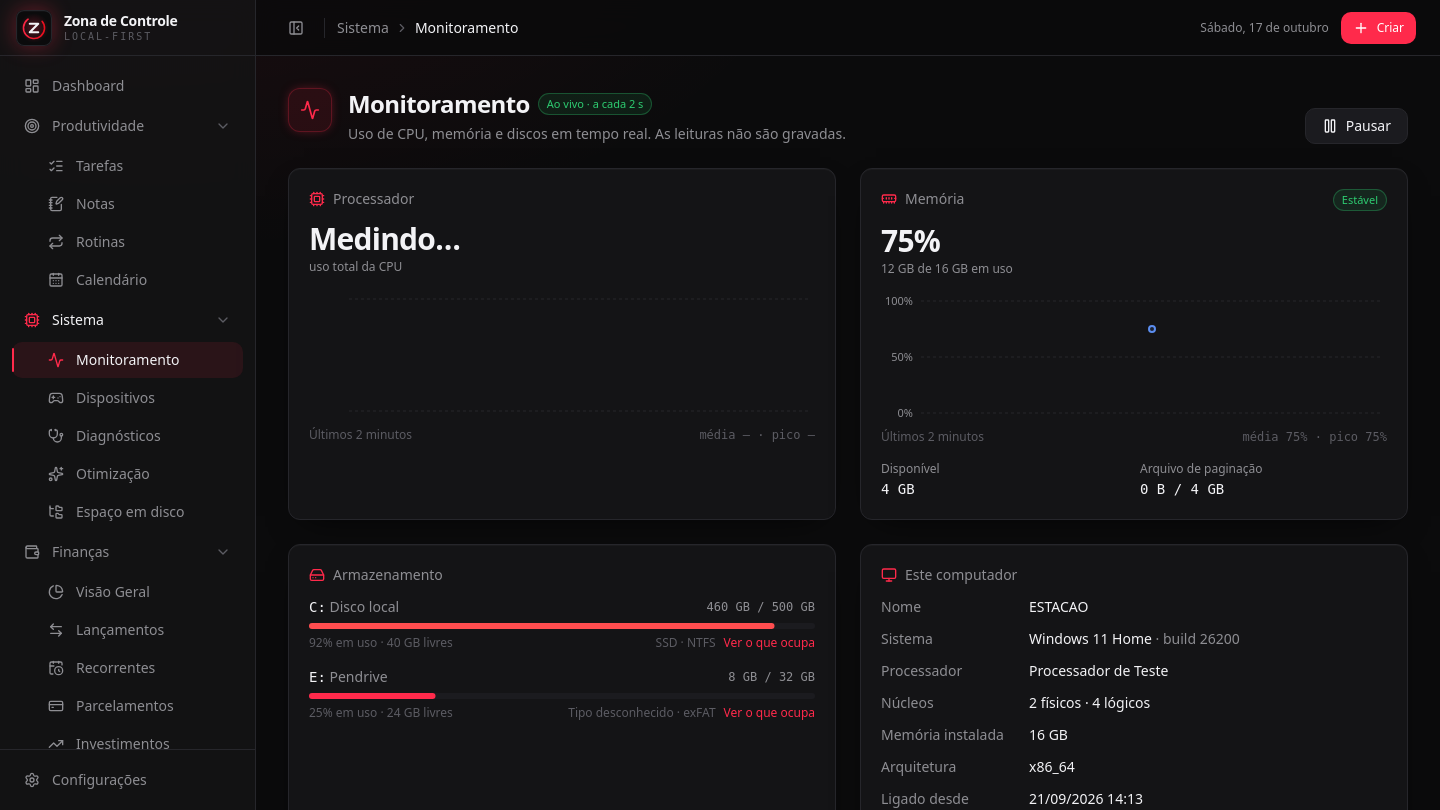
Test case: página de Monitoramento › pausa e retoma as leituras
Check: the text "Ao vivo · a cada 2 s" is shown, box [538,93,652,115]
Click the button "Pausar": (1356, 126) [1305,108,1408,144]
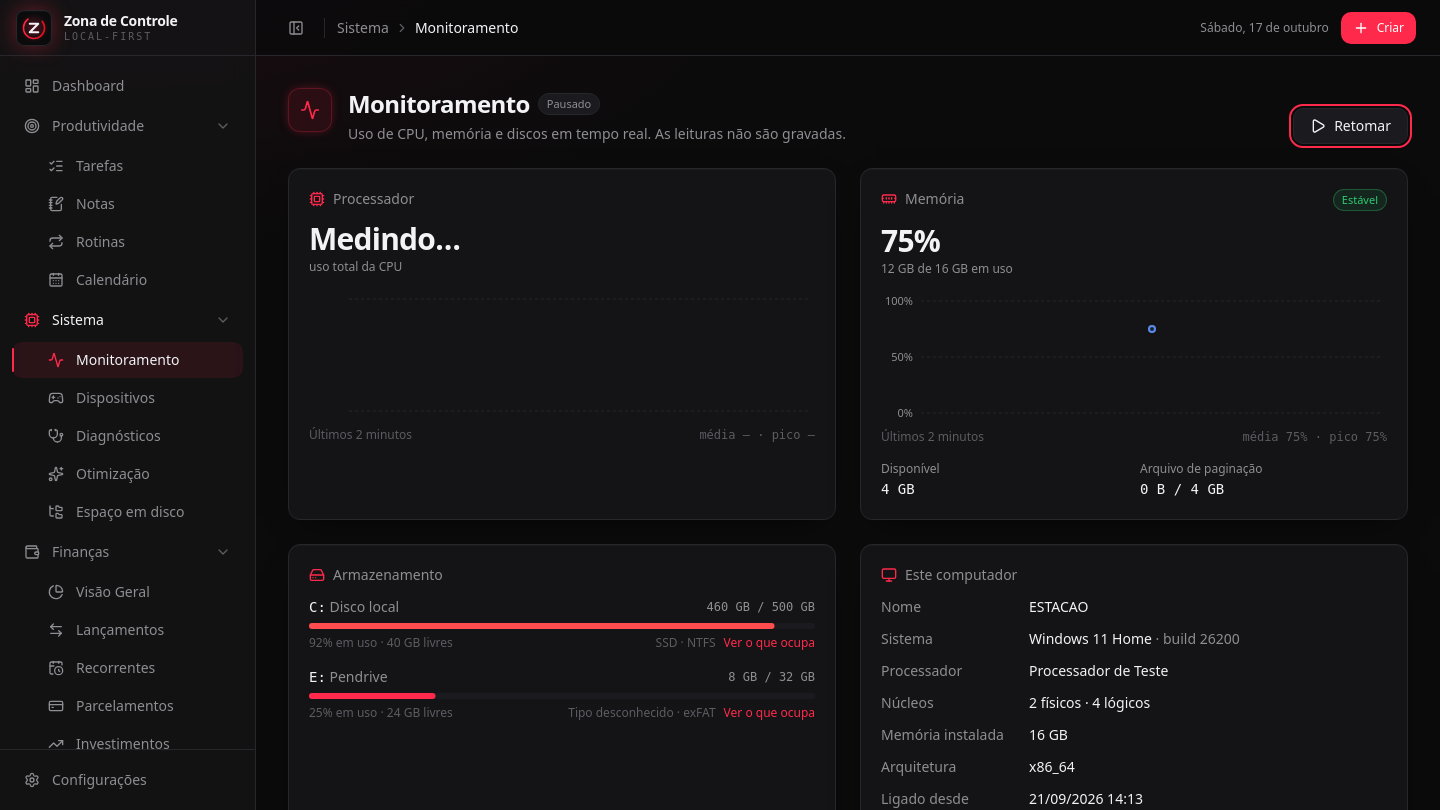
Check: the text "Pausado" is shown, box [538,93,600,115]
Click the button "Retomar": (1351, 126) [1293,108,1408,144]
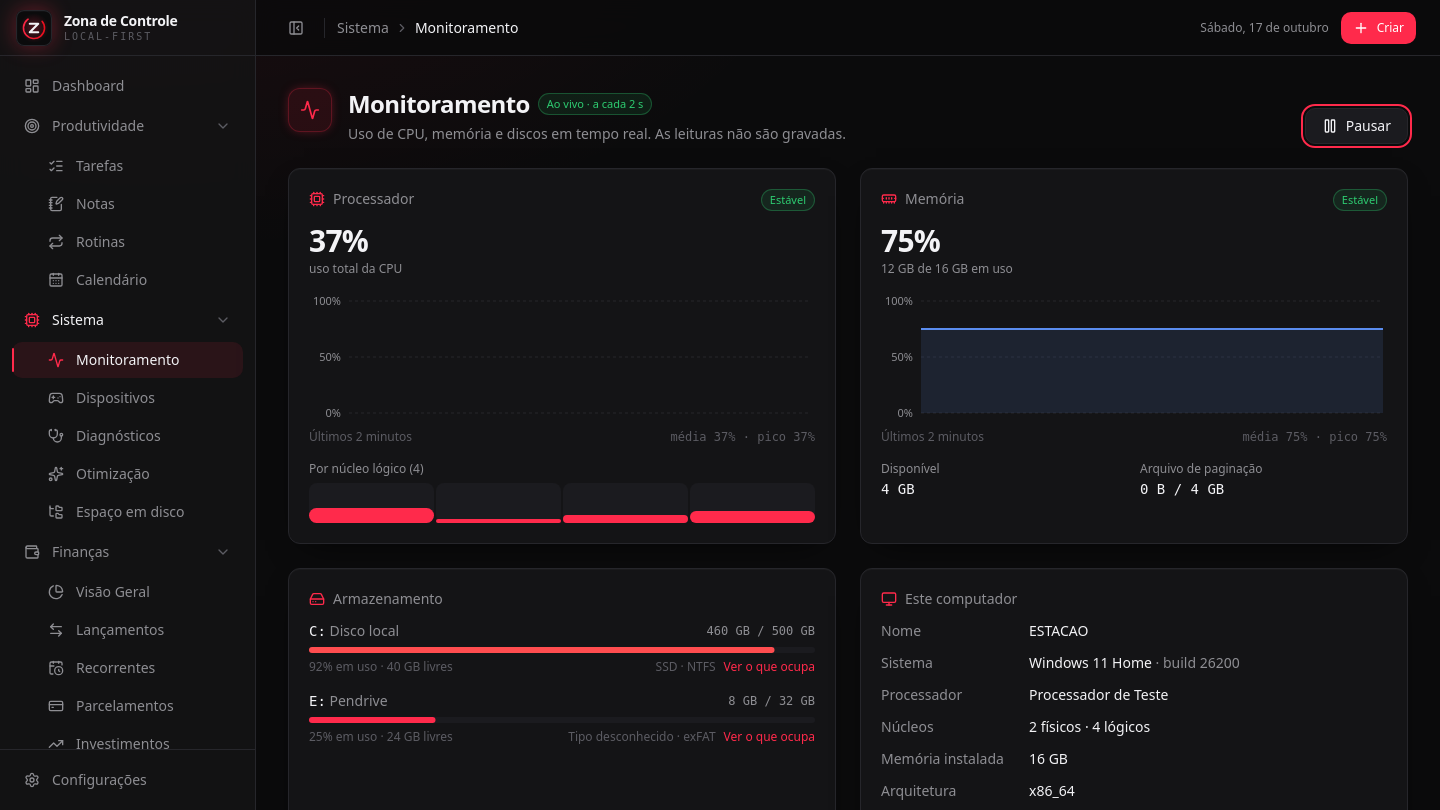
Check: the text "Ao vivo · a cada 2 s" is shown, box [538,93,652,115]
